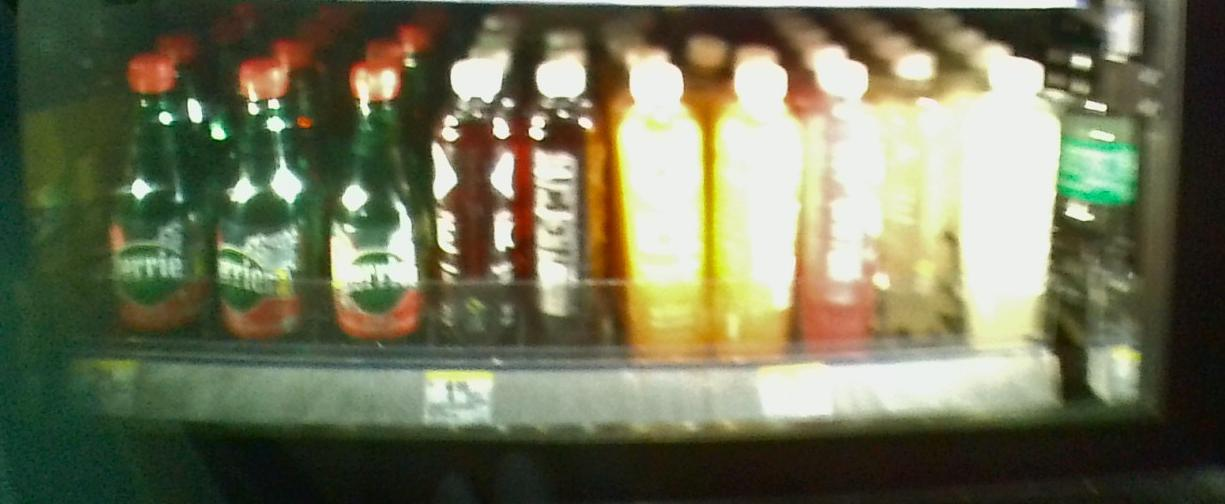bottle: (101, 49, 201, 343), (966, 49, 1064, 347), (210, 60, 311, 342), (322, 58, 418, 347), (429, 57, 522, 352), (714, 55, 801, 362), (620, 53, 705, 362), (806, 47, 887, 359), (529, 60, 608, 357), (893, 47, 956, 352)
